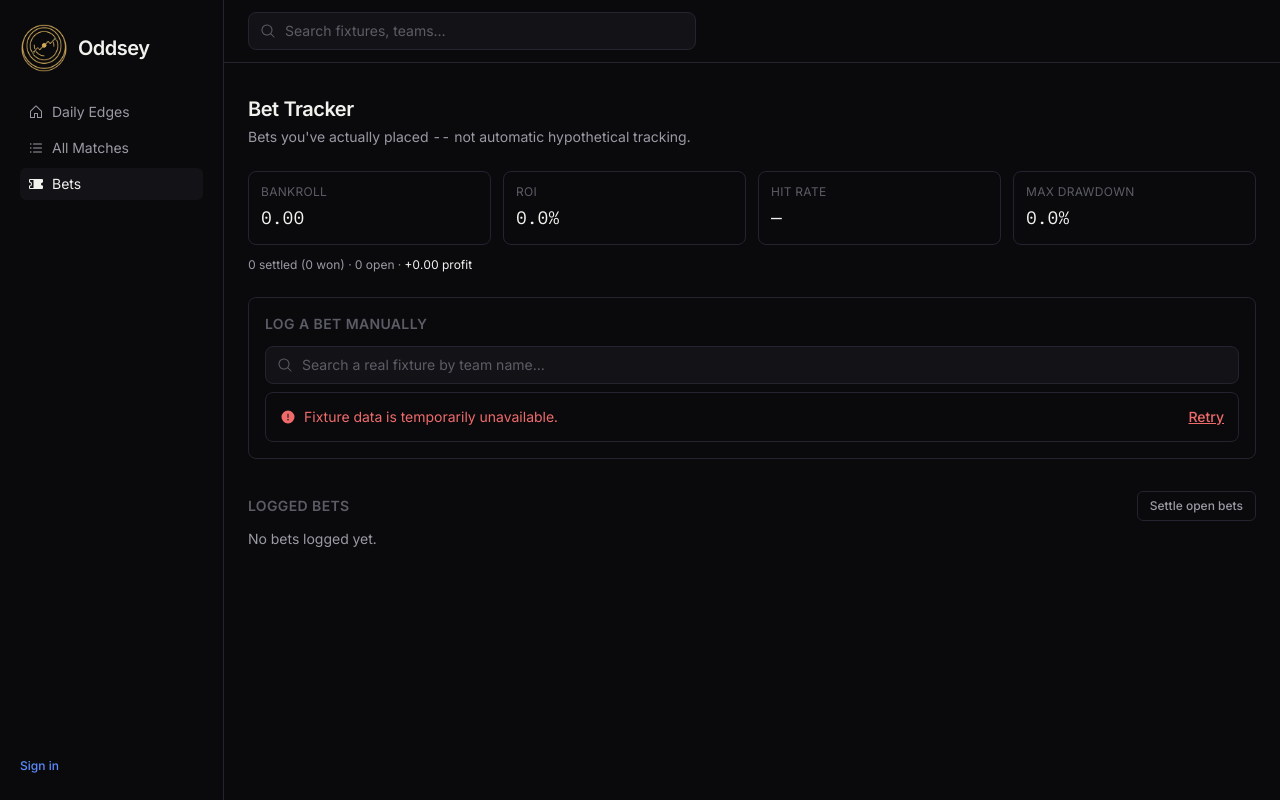
Test: ManualBetForm surfaces a visible error when the fixture fetch fails (W52) › clicking Retry on the fixture error re-runs the fetch and clears the error once it succeeds (W52 code review follow-up)
Expected: the text "Fixture data is temporarily unavailable." is shown, [304,408,558,425]
Click the button "Retry": (1206, 417) [1188,407,1224,427]
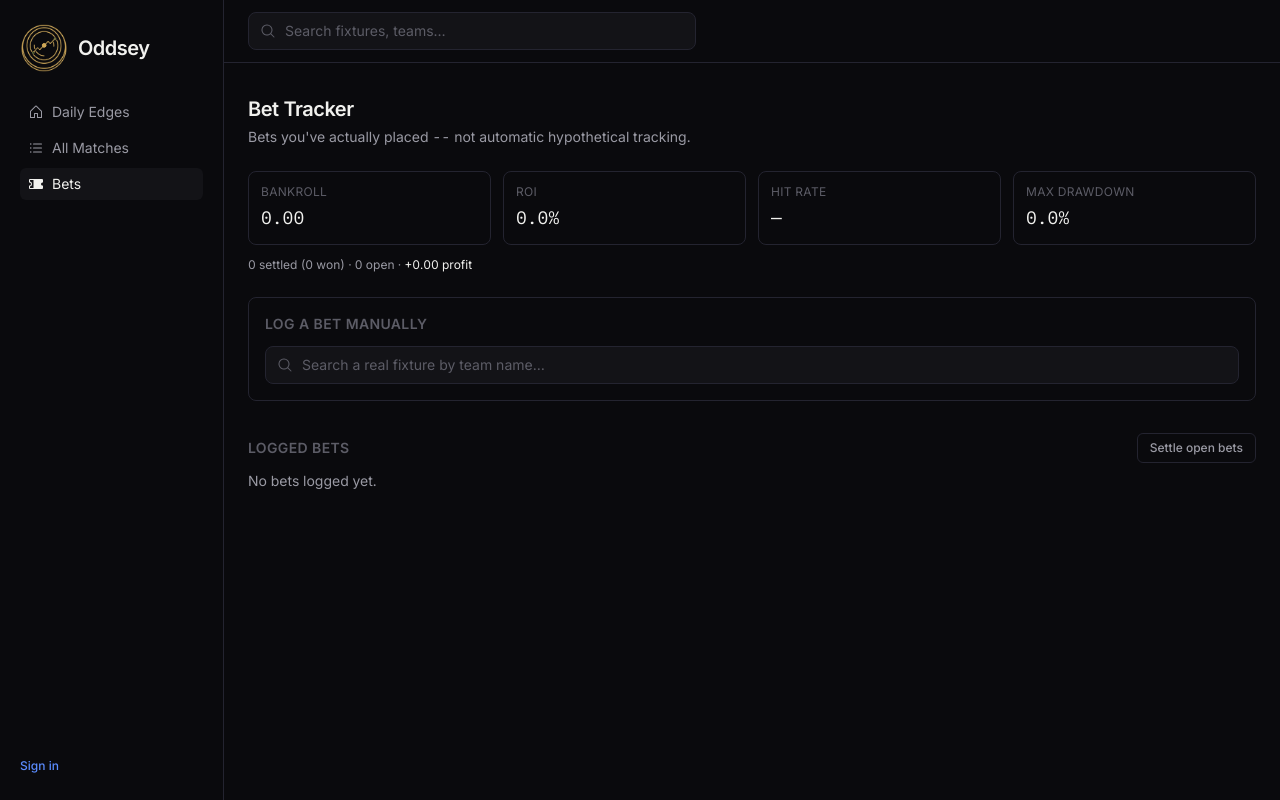
Now the text "Fixture data is temporarily unavailable" is gone
